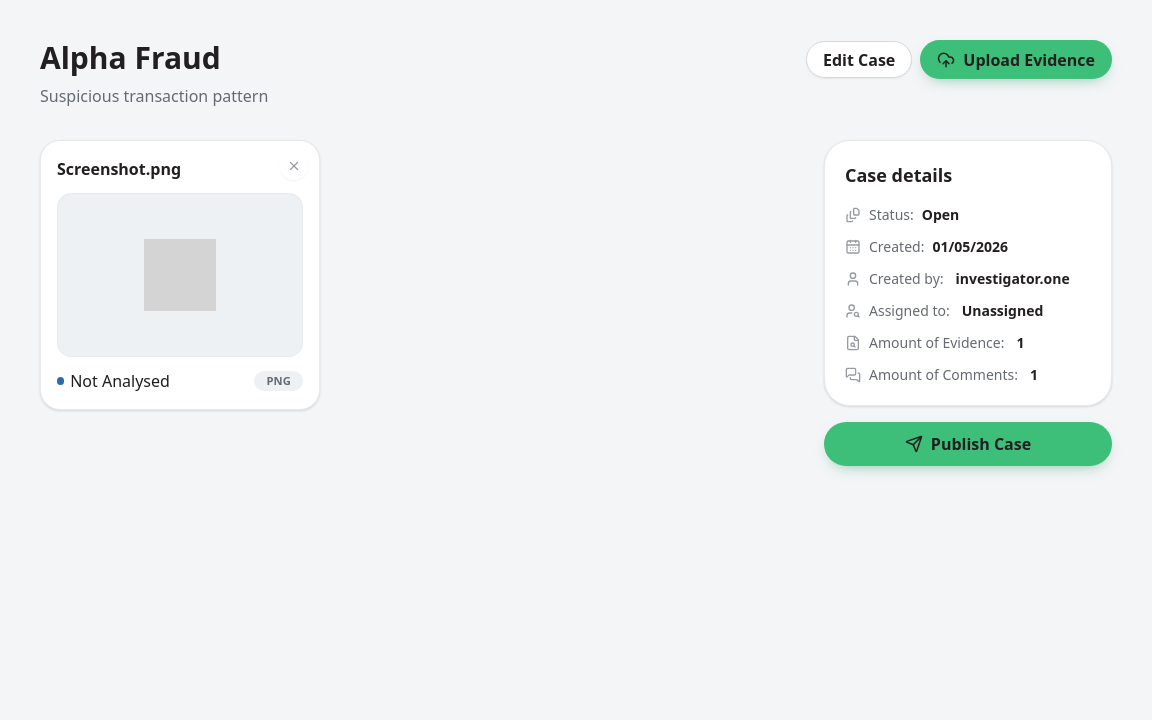
CasePage (integration) › deletes evidence and removes it from the list after reload
Expected: the text "Screenshot.png" is shown, top-left (57, 158), bottom-right (181, 180)
Click the button named "Delete evidence": {"x": 294, "y": 166} top-left (280, 152), bottom-right (308, 180)
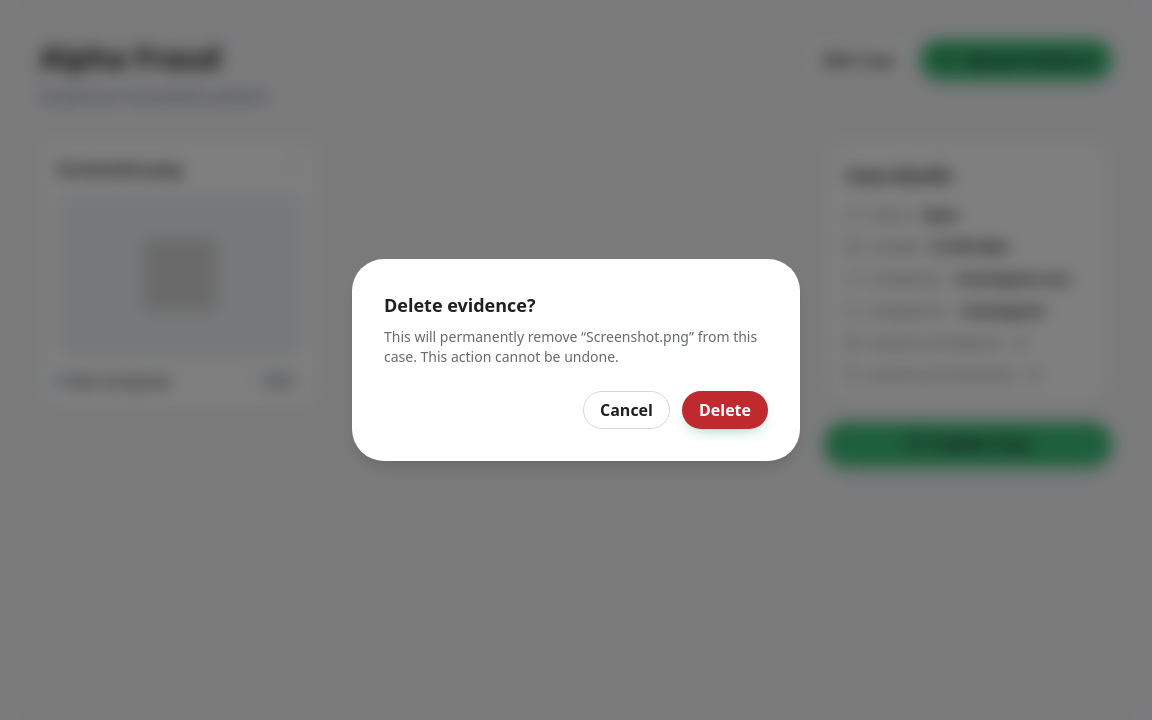
Click the button "Delete": {"x": 725, "y": 410} top-left (682, 391), bottom-right (768, 429)
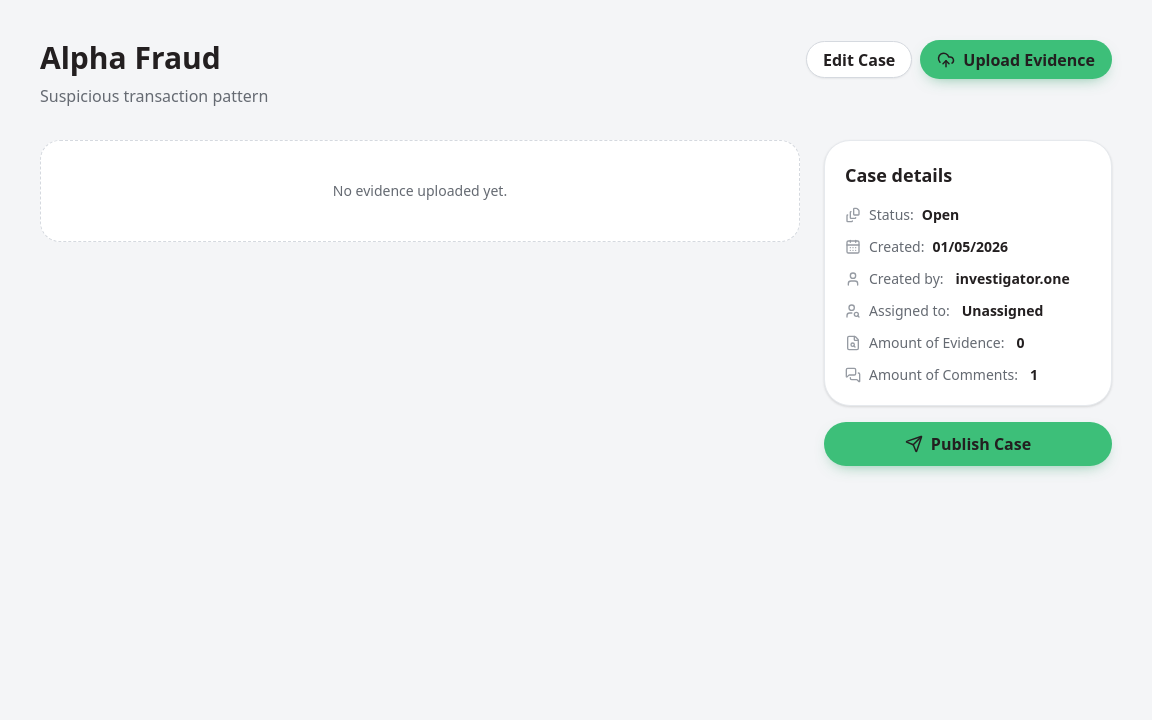
Result: the text "Screenshot.png" is gone
Result: the text "No evidence uploaded yet." is shown at top-left (40, 140), bottom-right (800, 242)
